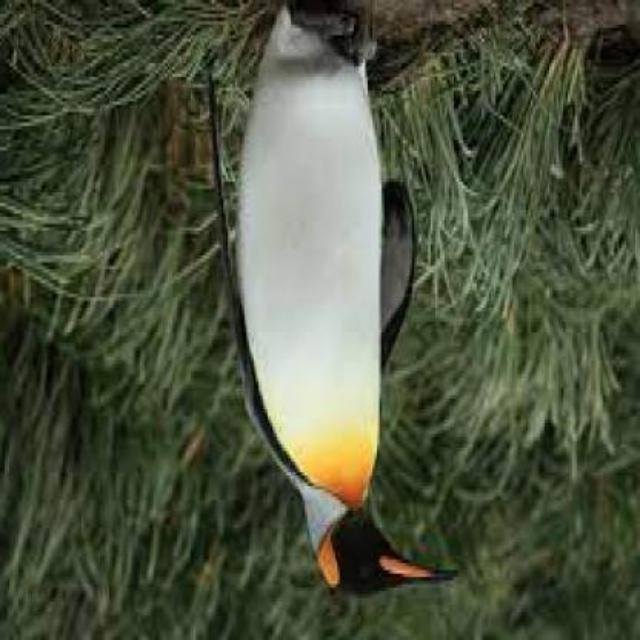penguin: (209, 6, 459, 598)
